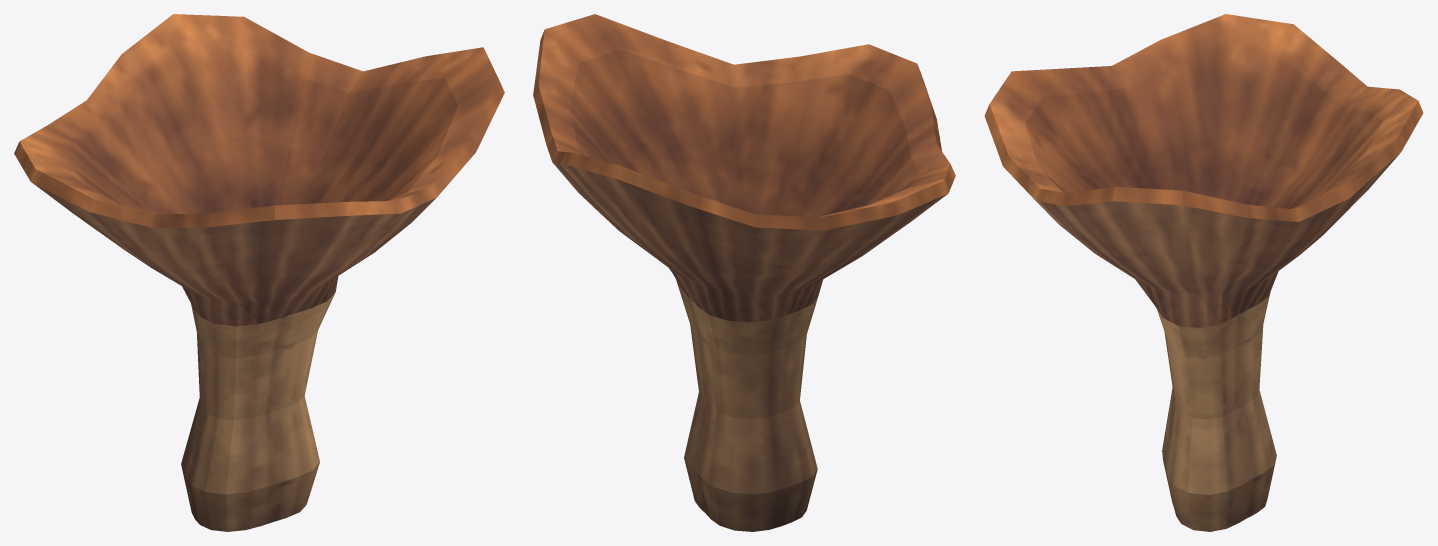
Rendered from Trombeta-de-Cobre-01-Calice.glb.
The picture shows the model from 3 angles, left to right: view 1: azimuth 30°, elevation 25°; view 2: azimuth 150°, elevation 25°; view 3: azimuth 270°, elevation 25°; orthographic projection. The views are drawn at different scales.
Parts seen in each view (by area): view 1: Cálice; view 2: Cálice; view 3: Cálice.
Part boxes in pixels (x1=…): Cálice: x1=14, y1=14, x2=504, y2=531; Cálice: x1=533, y1=14, x2=955, y2=531; Cálice: x1=984, y1=14, x2=1423, y2=531.
Bounding box in the file's own units: 0.0896 × 0.0825 × 0.0774.
1 material, 1 textured.
